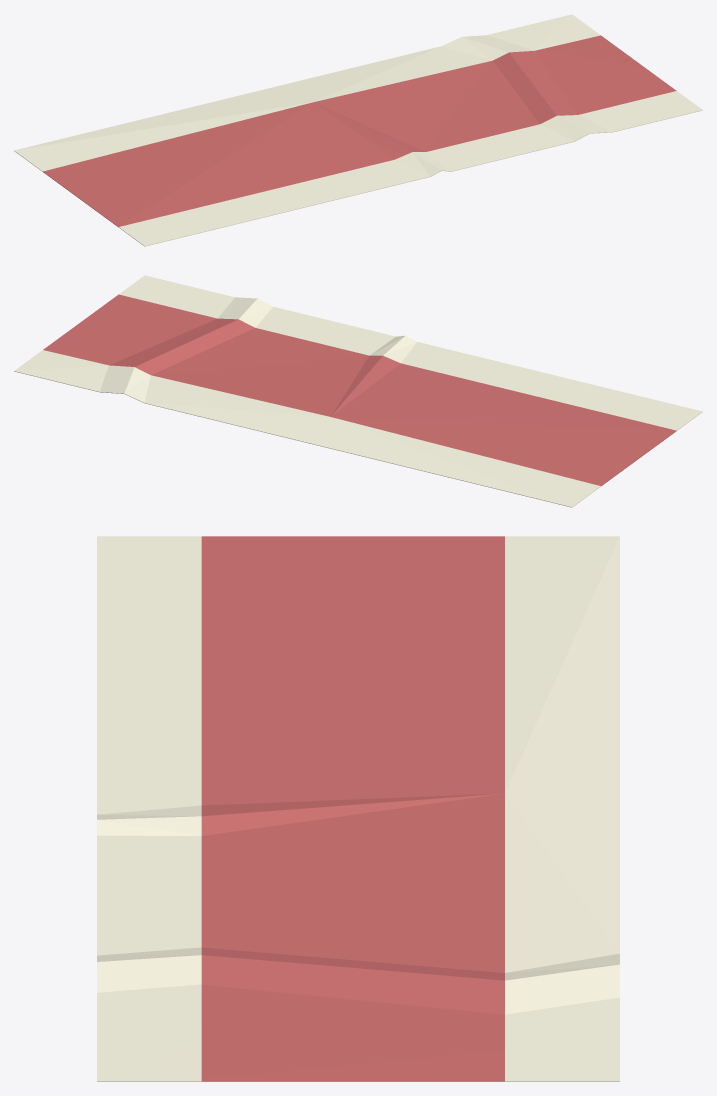
The model's file is Carpet.fbx.
3 views of the same model, one above another, from view 1: azimuth 30°, elevation 25°; view 2: azimuth 150°, elevation 25°; view 3: azimuth 270°, elevation 25° (orthographic). The views are drawn at different scales.
Parts seen in each view (by area): view 1: Prop_Fantasy_Rug_Carpet_Runner_Wrinkled_01, Prop_Fantasy_Rug_Carpet_Runner_Wrinkled_01.001; view 2: Prop_Fantasy_Rug_Carpet_Runner_Wrinkled_01, Prop_Fantasy_Rug_Carpet_Runner_Wrinkled_01.001; view 3: Prop_Fantasy_Rug_Carpet_Runner_Wrinkled_01, Prop_Fantasy_Rug_Carpet_Runner_Wrinkled_01.001.
Part boxes in pixels (bbox=[...]): Prop_Fantasy_Rug_Carpet_Runner_Wrinkled_01: bbox=[43, 35, 676, 227]; Prop_Fantasy_Rug_Carpet_Runner_Wrinkled_01.001: bbox=[14, 14, 702, 246]; Prop_Fantasy_Rug_Carpet_Runner_Wrinkled_01: bbox=[43, 294, 676, 486]; Prop_Fantasy_Rug_Carpet_Runner_Wrinkled_01.001: bbox=[14, 275, 702, 507]; Prop_Fantasy_Rug_Carpet_Runner_Wrinkled_01: bbox=[201, 536, 504, 1081]; Prop_Fantasy_Rug_Carpet_Runner_Wrinkled_01.001: bbox=[97, 536, 619, 1081].
Size of the model in its own units: 502 by 4.94 by 204.
